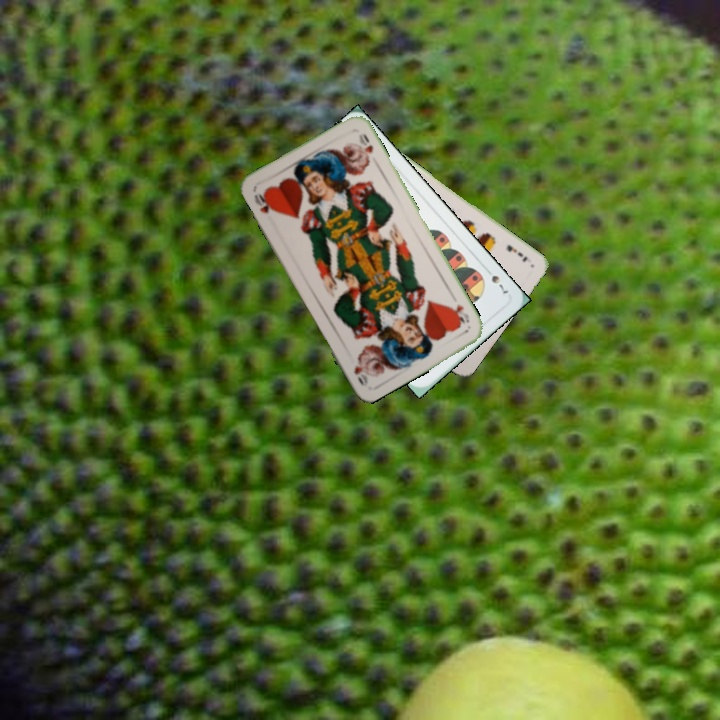E7: (502, 241, 530, 265)
HO: (250, 189, 276, 216), (447, 300, 472, 327)
S7: (487, 271, 511, 296)
